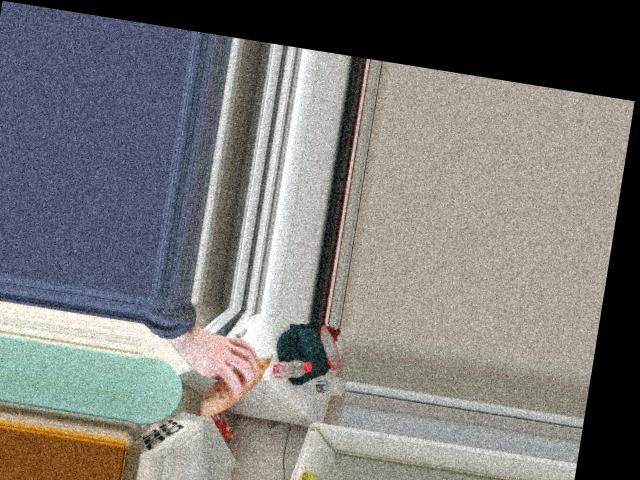sweet_potato: (201, 341, 271, 420)
